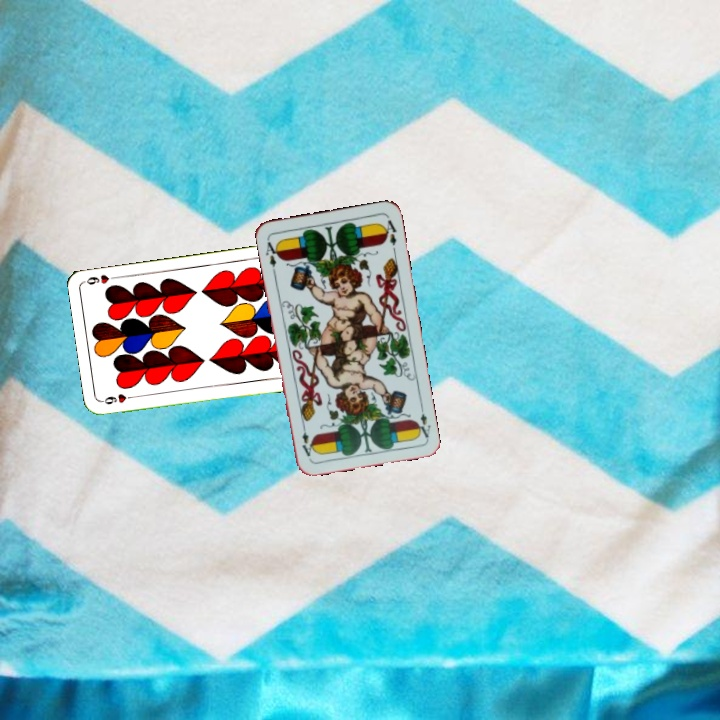EA: (261, 235, 282, 275), (412, 400, 433, 440)
H9: (99, 390, 139, 407)
